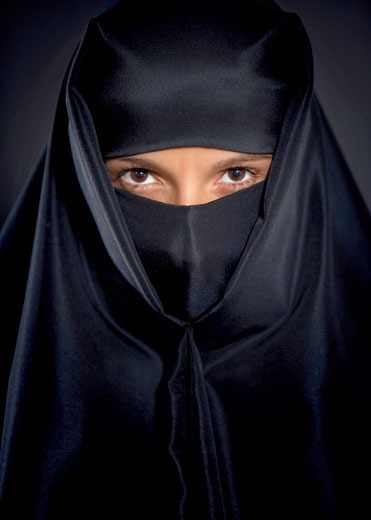face_mask: (93, 81, 281, 312)
